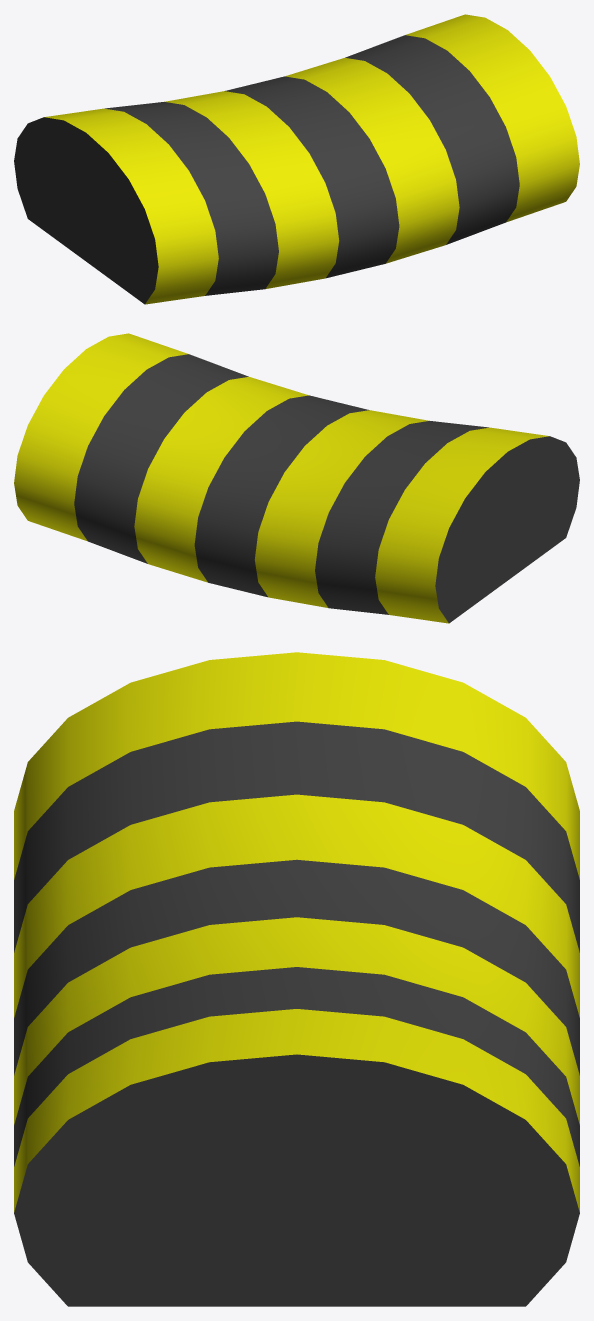
The model's file is bump.fbx.
3 views of the same model, one above another, from view 1: azimuth 30°, elevation 25°; view 2: azimuth 150°, elevation 25°; view 3: azimuth 270°, elevation 25° (orthographic). The views are drawn at different scales.
Visible parts, largest first — view 1: Cylinder.001; view 2: Cylinder.001; view 3: Cylinder.001.
Part boxes in pixels (x1,y1,x2,y2): Cylinder.001: (14, 14, 579, 304); Cylinder.001: (14, 333, 579, 623); Cylinder.001: (14, 652, 579, 1306).
Size of the model in its own units: 336 by 112 by 200.
